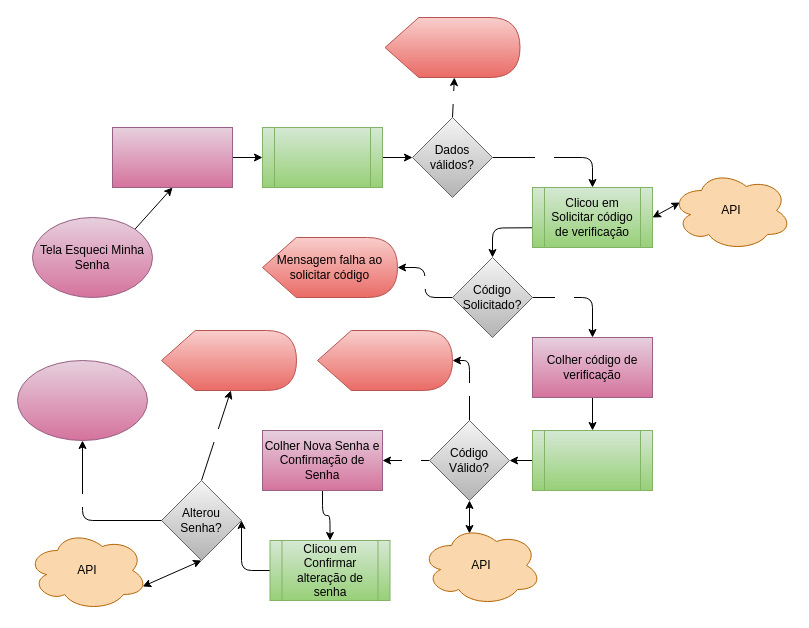
The diagram is 809 pixels wide and 628 high, and some of its shapes have lost their labels. The centre of each missing label's shape, as x and y in pixels:
"Clicou em Confirmar código digitado" goes at (592,460).
"Colher e-mail" goes at (172,157).
"Mensagem dados inválidos" goes at (452,47).
"Mensagem falha ao alterar senha" goes at (228,360).
"Mensagem falha ao validar código" goes at (384,360).
"Navegar p/ tela Login" goes at (82,400).
"Verificar se dados inseridos são válidos" goes at (322,157).
